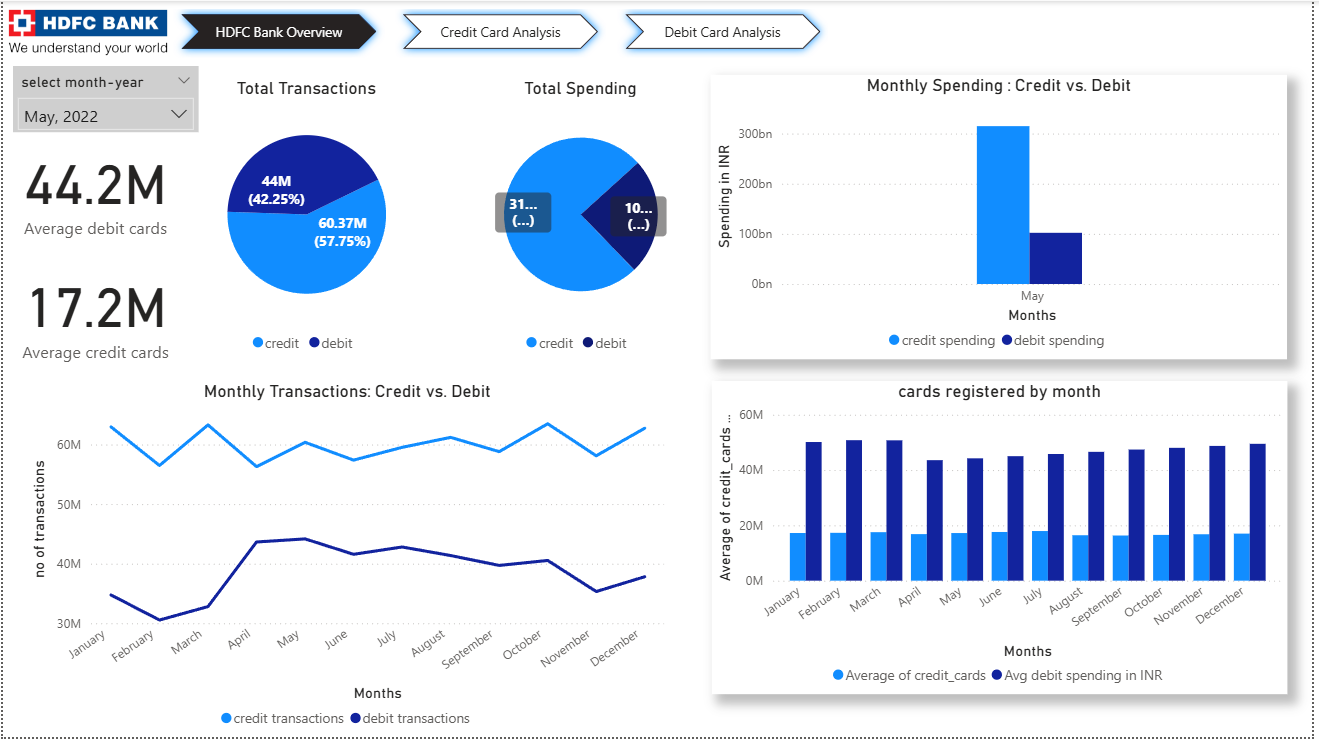

This screenshot's page, from the dashboard's own definition file:
{"tool":"powerbi","page":{"name":"HDFC Bank Overview","canvas":[1280,720],"ordinal":0},"visuals":[{"type":"card","fields":{"Values":["Avg(RBI_22-23.credit_cards)"]},"box":[0,247.7,181.4,112.3],"z":0},{"type":"card","fields":{"Values":["Avg(RBI_22-23.debit_cards)"]},"box":[0,128.2,181.4,109.4],"z":1000},{"type":"lineChart","title":"Monthly Transactions: Credit vs. Debit","fields":{"Category":["RBI_22-23.month_year.Variation.Date Hierarchy.Year","RBI_22-23.month_year.Variation.Date Hierarchy.Month"],"Y":["RBI_22-23.credit transactions","RBI_22-23.debit transactions"]},"box":[21.7,371.7,630,348.3],"z":2000},{"type":"clusteredColumnChart","title":"Monthly Spending : Credit vs. Debit","fields":{"Category":["RBI_22-23.month_year.Variation.Date Hierarchy.Month"],"Y":["RBI_22-23.credit spending","RBI_22-23.debit spending"]},"box":[692.6,72.4,564.3,278],"z":3000},{"type":"pieChart","title":"Total Transactions","fields":{"Y":["RBI_22-23.credit card transactions","RBI_22-23.debit card transactions"]},"box":[157.9,72.4,278,278],"z":4000},{"type":"pieChart","title":"Total Spending","fields":{"Y":["RBI_22-23.credit spending","RBI_22-23.debit spending"]},"box":[436,72.4,256.7,278],"z":5000},{"type":"clusteredColumnChart","title":"cards registered by month","fields":{"Category":["RBI_22-23.month_year.Variation.Date Hierarchy.Month"],"Y":["Avg(RBI_22-23.credit_cards)","Avg(RBI_22-23.debit_cards)"]},"box":[693.3,371.7,563.3,306.7],"z":6000},{"type":"slicer","fields":{"Values":["RBI_22-23.month_year"]},"box":[10.1,63.4,181.4,64.8],"z":7000},{"type":"pageNavigator","box":[166.7,5,643.3,50],"z":9000},{"type":"image","box":[0,1.7,166.7,58.3],"z":10000}]}

Visuals, with their boxes in screenshot pixels (x1, y1, x2, y2), scaled from the page's 1280x720 canvas onto the 1319x744 screenshot:
card - Avg(RBI_22-23.credit_cards): (0,256,187,372)
card - Avg(RBI_22-23.debit_cards): (0,132,187,246)
"Monthly Transactions: Credit vs. Debit" lineChart: (22,384,672,743)
"Monthly Spending : Credit vs. Debit" clusteredColumnChart: (714,75,1295,362)
"Total Transactions" pieChart: (163,75,449,362)
"Total Spending" pieChart: (449,75,714,362)
"cards registered by month" clusteredColumnChart: (714,384,1295,701)
slicer - RBI_22-23.month_year: (10,66,197,132)
pageNavigator: (172,5,835,57)
image: (0,2,172,62)
